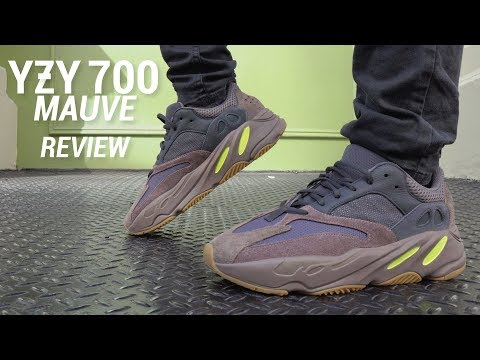adidas Yeezy 700 Mauve: (201, 137, 480, 303), (120, 83, 289, 243)
